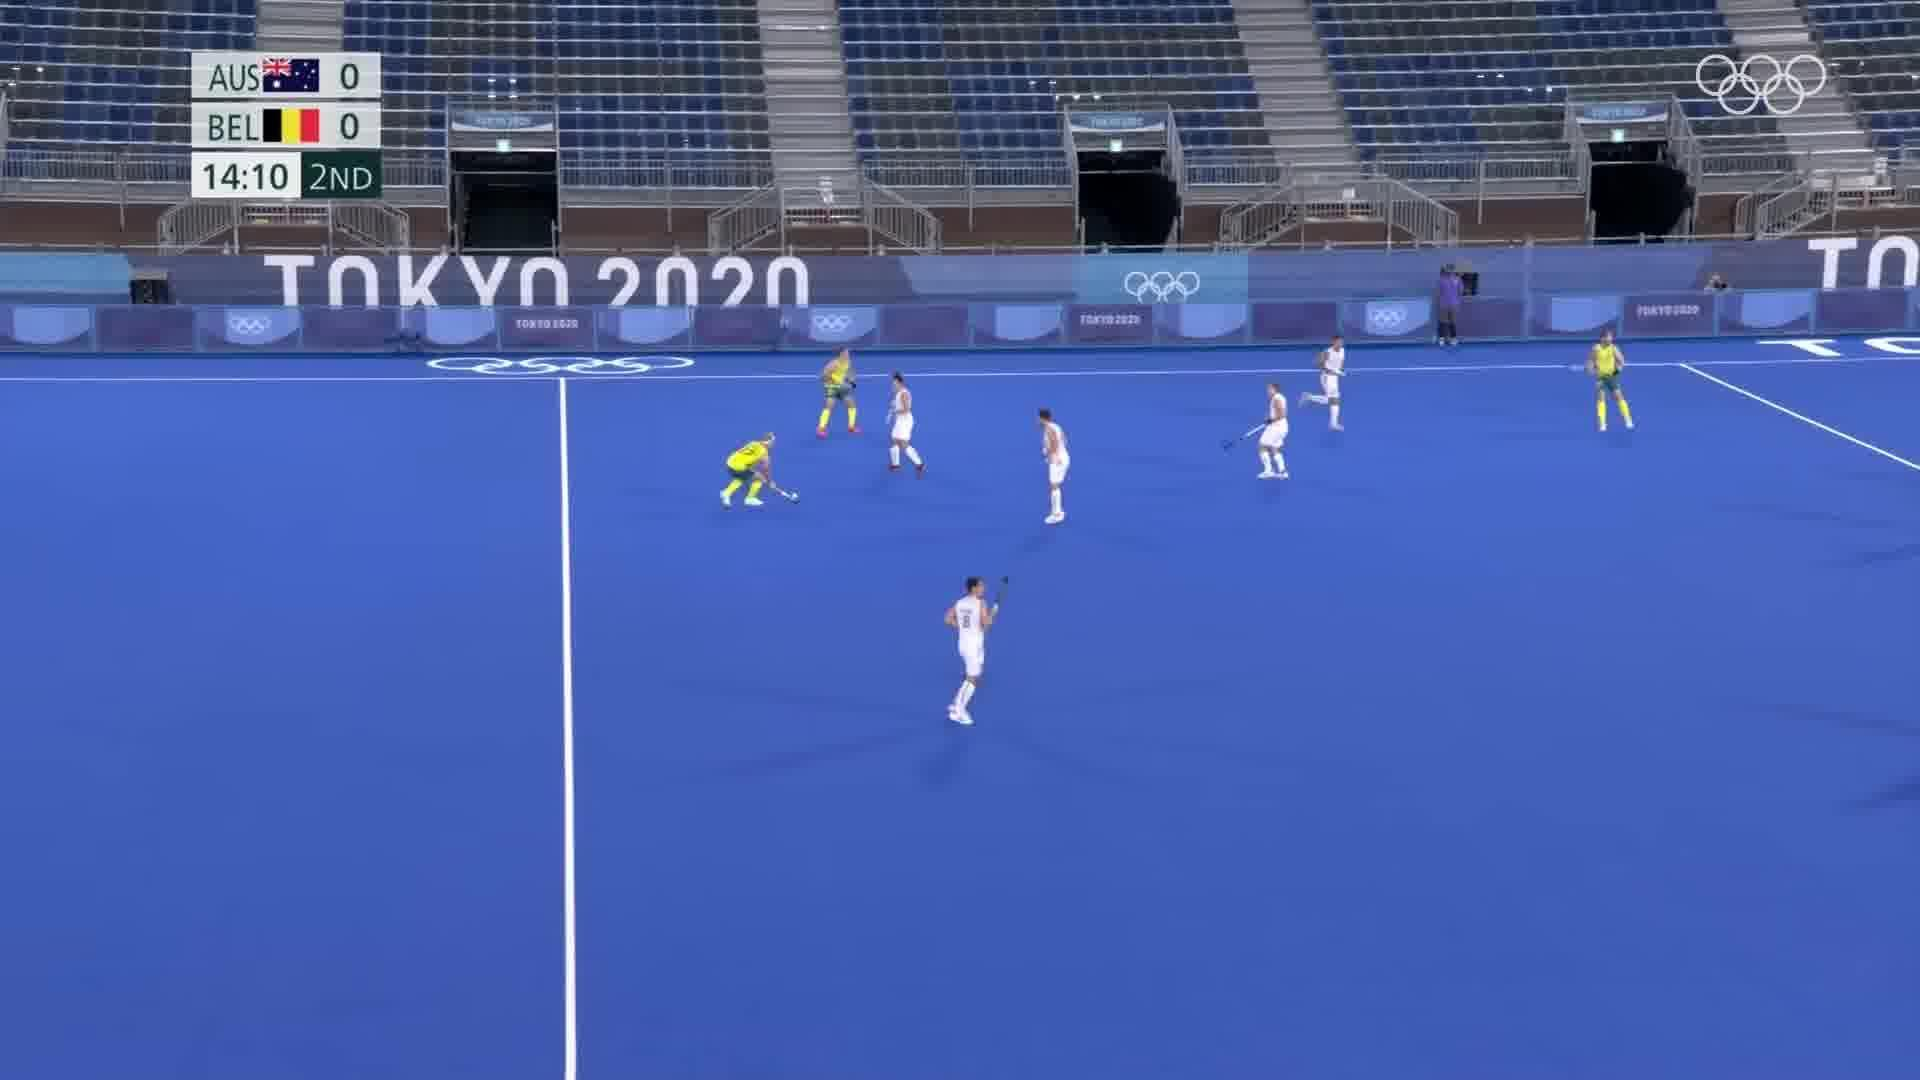ball: (788, 488, 803, 498)
